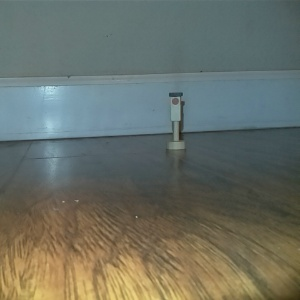traffic light red: (166, 90, 187, 151)
